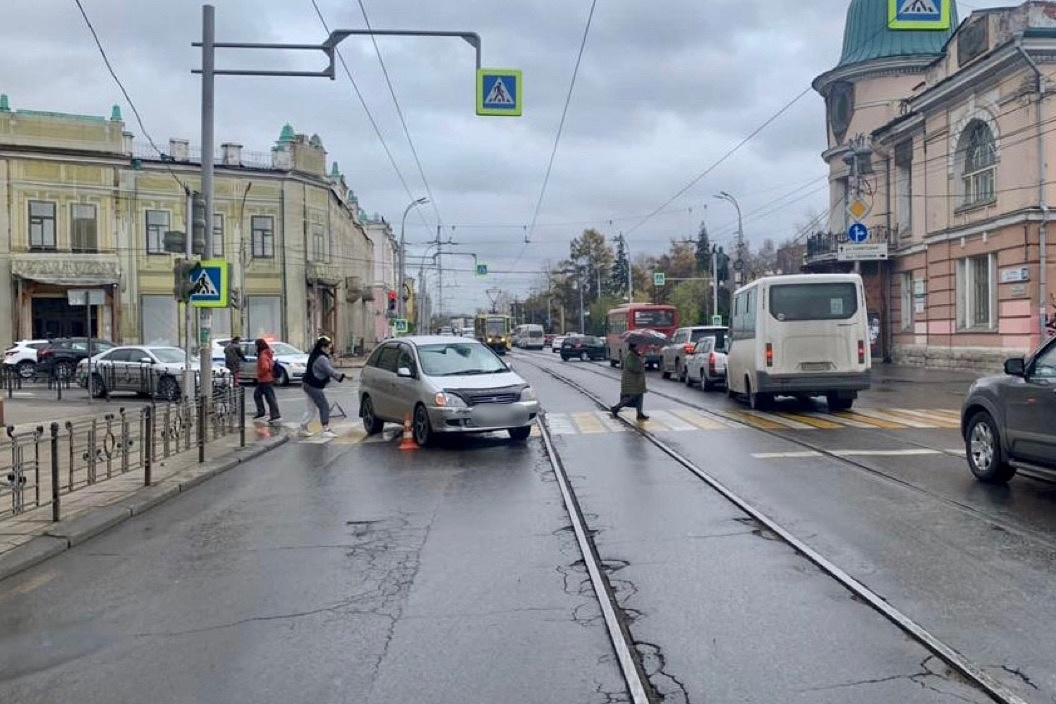sign: (472, 61, 528, 123), (178, 256, 234, 309), (883, 1, 954, 35), (843, 195, 871, 222), (846, 224, 869, 244), (392, 317, 409, 334), (473, 261, 489, 278), (652, 270, 666, 287), (710, 313, 724, 328)
